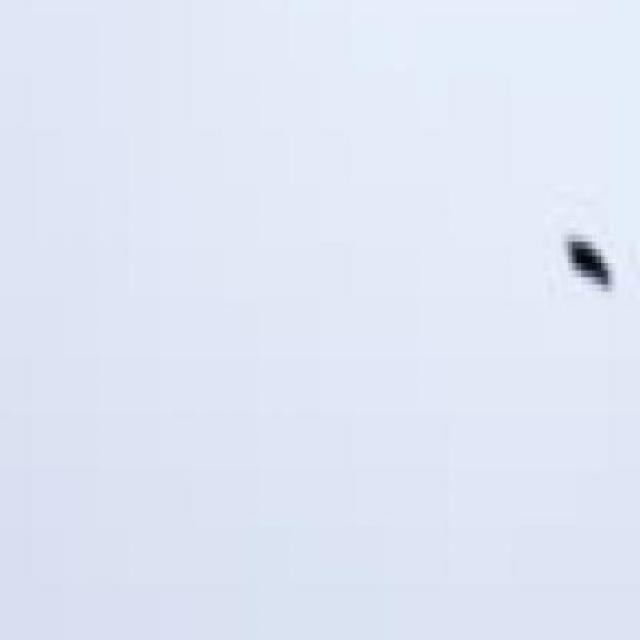bird: (568, 214, 618, 291)
